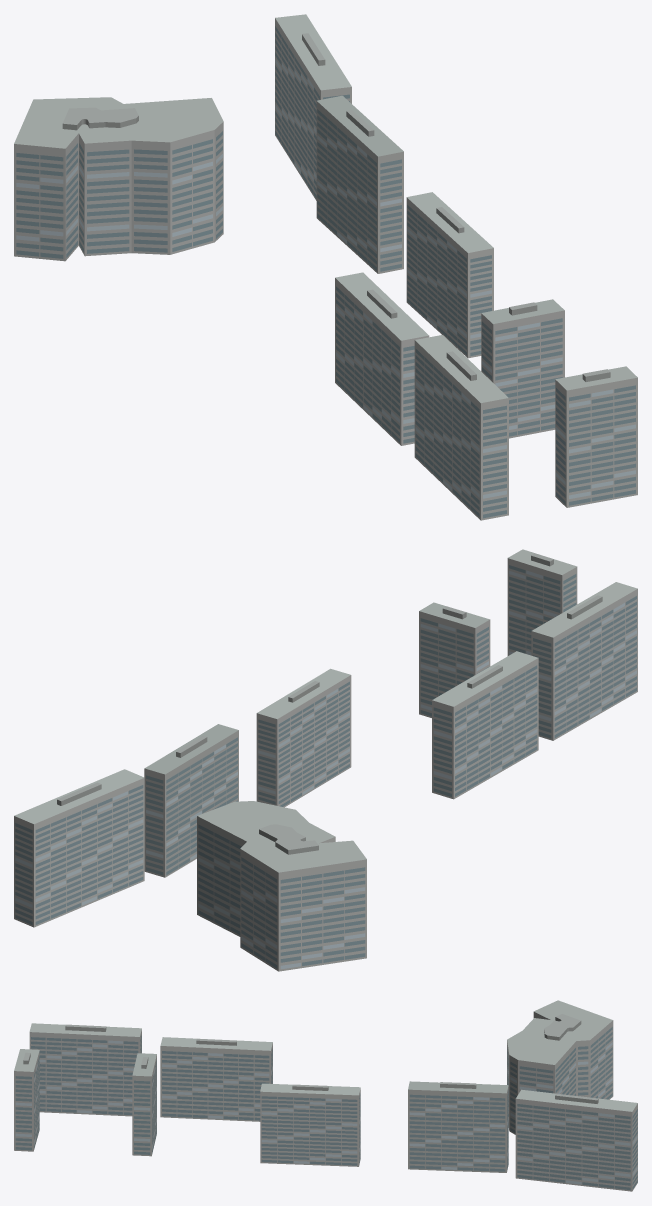
File: apt-a13201208.glb
The picture shows the model from 3 angles, top to bottom: view 1: azimuth 30°, elevation 25°; view 2: azimuth 150°, elevation 25°; view 3: azimuth 270°, elevation 25°; orthographic projection. The views are drawn at different scales.
Visible parts, largest first — view 1: apt-a13201208; view 2: apt-a13201208; view 3: apt-a13201208.
Part boxes in pixels (x1=…): apt-a13201208: x1=14, y1=14, x2=637, y2=520; apt-a13201208: x1=14, y1=549, x2=637, y2=971; apt-a13201208: x1=14, y1=1000, x2=637, y2=1191.
Size of the model in its own units: 142 by 48 by 325.
